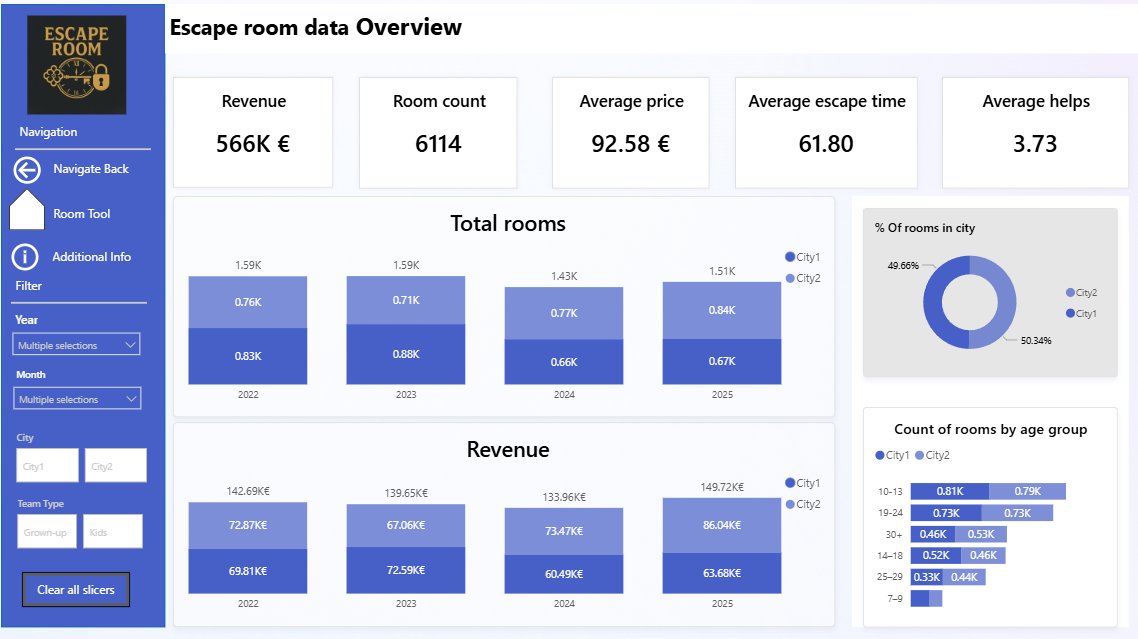

The page's visual inventory and layout, read from the dashboard file:
{"tool":"powerbi","page":{"name":"Main Page","canvas":[1280,720],"ordinal":0},"visuals":[{"type":"shape","box":[5,8.8,182.5,692.5],"z":0},{"type":"card","title":"Revenue","fields":{"Values":["Sum(full_data.Revenue)"]},"box":[196.2,90,177.5,122.5],"z":1000},{"type":"textbox","box":[187.5,8.8,1092.5,55],"z":2000},{"type":"columnChart","title":"Total rooms","fields":{"Category":["full_data.Data.Variation.Date Hierarchy.Year","full_data.Data.Variation.Date Hierarchy.Quarter","full_data.Data.Variation.Date Hierarchy.Month","full_data.Data.Variation.Date Hierarchy.Day"],"Series":["full_data.City"],"Y":["full_data.Count_Kambarys"]},"box":[196.2,222.5,736.2,246.2],"z":3000},{"type":"shape","box":[951.2,222.5,307.5,478.8],"z":4000},{"type":"donutChart","title":"% Of rooms in city","fields":{"Y":["full_data.City count"],"Category":["full_data.City"]},"box":[963.8,235,282.5,187.5],"z":5000},{"type":"barChart","title":"Count of rooms by age group","fields":{"Category":["full_data.Age Group"],"Y":["full_data.Count_Kambarys"],"Series":["full_data.City"]},"box":[963.8,456.2,282.5,245],"z":6000},{"type":"shape","box":[21.3,156.8,151.1,27.1],"z":7000},{"type":"shape","box":[16.8,319.2,151.1,44],"z":8000},{"type":"textbox","box":[16.8,307.9,92.5,28.2],"z":9000},{"type":"textbox","box":[21.3,136.5,92.5,29.3],"z":10000},{"type":"slicer","fields":{"Values":["full_data.Data.Variation.Date Hierarchy.Year"]},"box":[13.4,349.6,152.2,56.4],"z":11000},{"type":"slicer","fields":{"Values":["full_data.Data.Variation.Date Hierarchy.Month"]},"box":[14.5,412.8,152.2,56.4],"z":12000},{"type":"advancedSlicerVisual","title":"City","fields":{"Values":["full_data.City"]},"box":[17.9,482.7,156.8,63.2],"z":13000},{"type":"advancedSlicerVisual","title":"Team Type","fields":{"Values":["full_data.TeamType"]},"box":[19,556,150,63.2],"z":14000},{"type":"card","title":"Room count","fields":{"Values":["full_data.Count_Kambarys"]},"box":[403.8,90,176.2,123.8],"z":15000},{"type":"card","title":"Average price","fields":{"Values":["full_data.Average Price"]},"box":[617.5,90,175,123.8],"z":16000},{"type":"card","title":"Average escape time","fields":{"Values":["Avg(full_data.Escape Time)"]},"box":[821.2,90,202.5,123.8],"z":17000},{"type":"card","title":"Average helps","fields":{"Values":["Avg(full_data.Helps)"]},"box":[1051.2,90,207.5,123.8],"z":18000},{"type":"actionButton","box":[13.9,172.8,46.6,40.3],"z":19000},{"type":"actionButton","box":[12.6,270,45.6,40],"z":20000},{"type":"textbox","box":[58.7,178.2,120.9,28.7],"z":21000},{"type":"textbox","box":[58.7,227.5,120.9,28.7],"z":22000},{"type":"textbox","box":[58.2,275.6,121.1,27.8],"z":23000},{"type":"actionButton","box":[29.1,640.3,120,38.5],"z":24000},{"type":"pageNavigator","box":[14.9,213.3,40,47.8],"z":26000},{"type":"image","box":[27.5,16.2,123.8,120],"z":27000},{"type":"columnChart","title":"Revenue","fields":{"Category":["full_data.Data.Variation.Date Hierarchy.Year","full_data.Data.Variation.Date Hierarchy.Quarter","full_data.Data.Variation.Date Hierarchy.Month","full_data.Data.Variation.Date Hierarchy.Day"],"Series":["full_data.City"],"Y":["Sum(full_data.Revenue)"]},"box":[196.2,473.8,736.2,227.5],"z":28000}]}

Visuals, with their boxes on the page's 1280x720 design canvas (x1, y1, x2, y2). These are canvas units, not pixel positions in the 1138x639 screenshot, which may show the page scaled, cropped or inside an application window:
shape: x1=5, y1=9, x2=188, y2=701
"Revenue" card: x1=196, y1=90, x2=374, y2=212
textbox: x1=188, y1=9, x2=1280, y2=64
"Total rooms" columnChart: x1=196, y1=222, x2=932, y2=469
shape: x1=951, y1=222, x2=1259, y2=701
"% Of rooms in city" donutChart: x1=964, y1=235, x2=1246, y2=422
"Count of rooms by age group" barChart: x1=964, y1=456, x2=1246, y2=701
shape: x1=21, y1=157, x2=172, y2=184
shape: x1=17, y1=319, x2=168, y2=363
textbox: x1=17, y1=308, x2=109, y2=336
textbox: x1=21, y1=136, x2=114, y2=166
slicer - full_data.Data.Variation.Date Hierarchy.Year: x1=13, y1=350, x2=166, y2=406
slicer - full_data.Data.Variation.Date Hierarchy.Month: x1=14, y1=413, x2=167, y2=469
"City" advancedSlicerVisual: x1=18, y1=483, x2=175, y2=546
"Team Type" advancedSlicerVisual: x1=19, y1=556, x2=169, y2=619
"Room count" card: x1=404, y1=90, x2=580, y2=214
"Average price" card: x1=618, y1=90, x2=792, y2=214
"Average escape time" card: x1=821, y1=90, x2=1024, y2=214
"Average helps" card: x1=1051, y1=90, x2=1259, y2=214
actionButton: x1=14, y1=173, x2=60, y2=213
actionButton: x1=13, y1=270, x2=58, y2=310
textbox: x1=59, y1=178, x2=180, y2=207
textbox: x1=59, y1=228, x2=180, y2=256
textbox: x1=58, y1=276, x2=179, y2=303
actionButton: x1=29, y1=640, x2=149, y2=679
pageNavigator: x1=15, y1=213, x2=55, y2=261
image: x1=28, y1=16, x2=151, y2=136
"Revenue" columnChart: x1=196, y1=474, x2=932, y2=701
